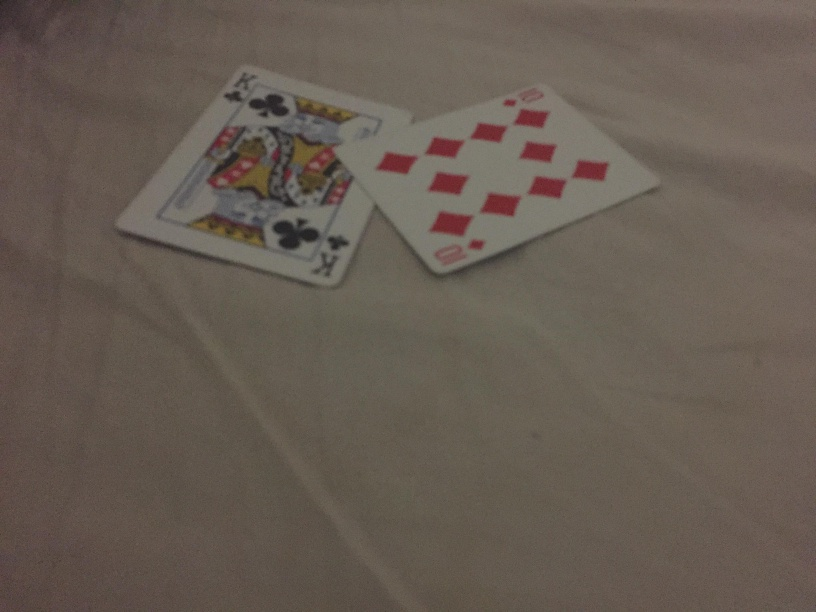10: (332, 66, 675, 279)
king: (107, 48, 414, 294)
